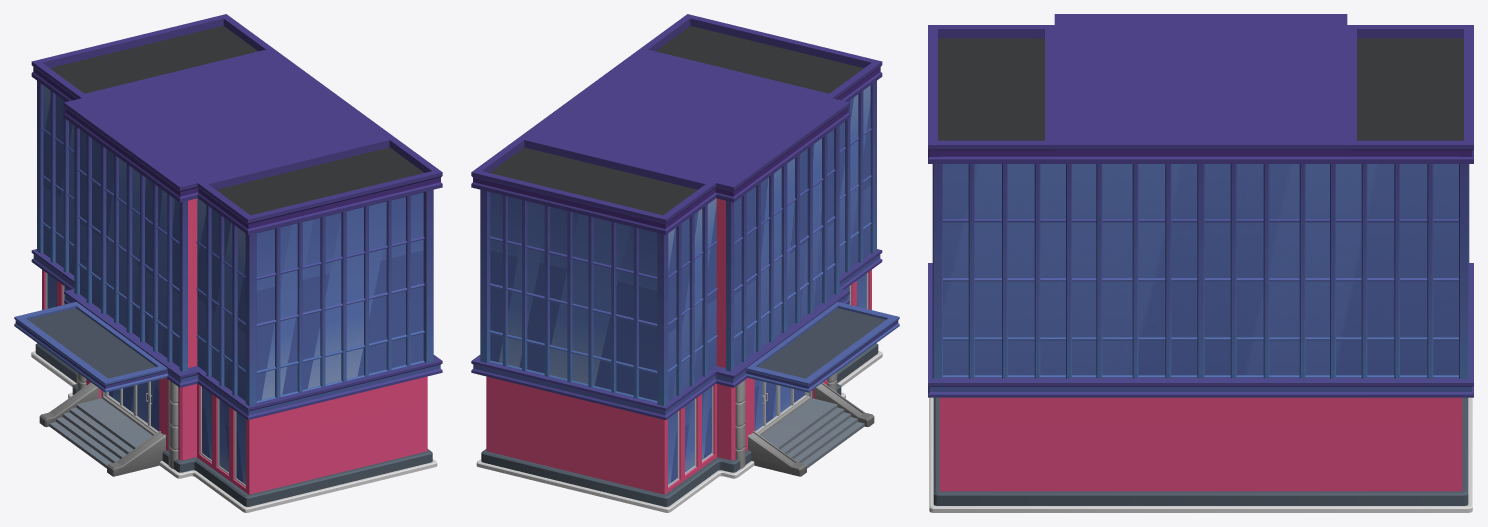
File: Building_17_1_E.fbx
The picture shows the model from 3 angles, left to right: view 1: azimuth 30°, elevation 25°; view 2: azimuth 150°, elevation 25°; view 3: azimuth 270°, elevation 25°; orthographic projection. The views are drawn at different scales.
Visible parts, largest first — view 1: Building_17_1_E; view 2: Building_17_1_E; view 3: Building_17_1_E.
Part boxes in pixels (x1=…): Building_17_1_E: x1=14, y1=14, x2=442, y2=512; Building_17_1_E: x1=471, y1=14, x2=899, y2=512; Building_17_1_E: x1=928, y1=14, x2=1473, y2=512.
Size of the model in its own units: 857 by 875 by 1168.
